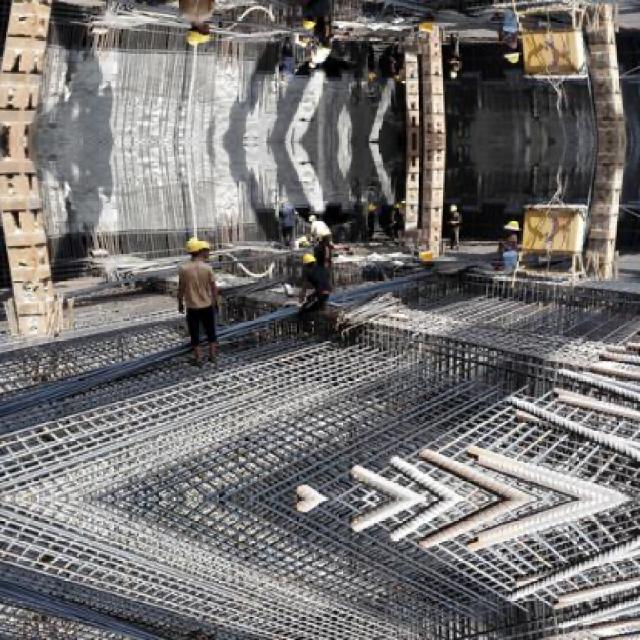helmet: (183, 234, 206, 260), (183, 22, 206, 48), (302, 248, 322, 266), (302, 14, 322, 32), (198, 235, 214, 257), (198, 23, 214, 45)
